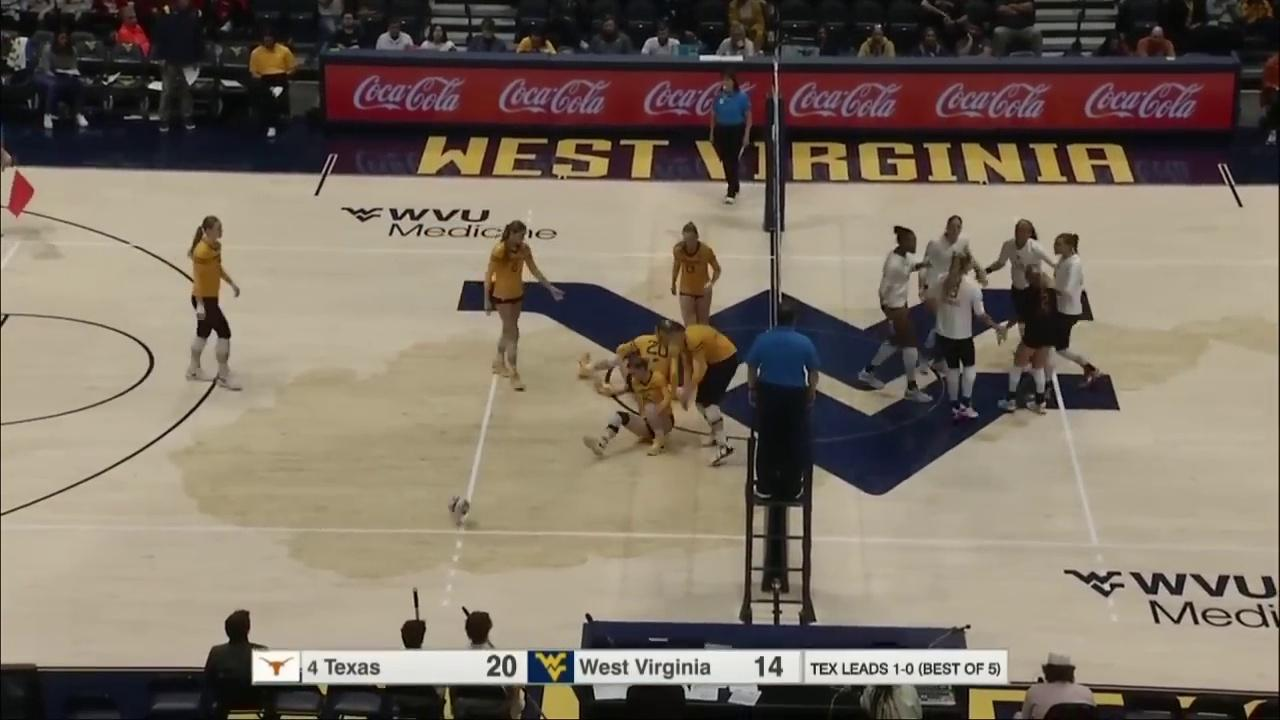player: (487, 222, 564, 392), (865, 227, 926, 402), (187, 214, 245, 391), (668, 319, 739, 461), (1047, 232, 1106, 397), (930, 250, 984, 423), (922, 216, 981, 360), (592, 357, 672, 461), (578, 323, 683, 398), (1006, 220, 1053, 370), (1008, 266, 1051, 417), (670, 222, 721, 349)
refree: (752, 300, 815, 497), (708, 74, 753, 202)
